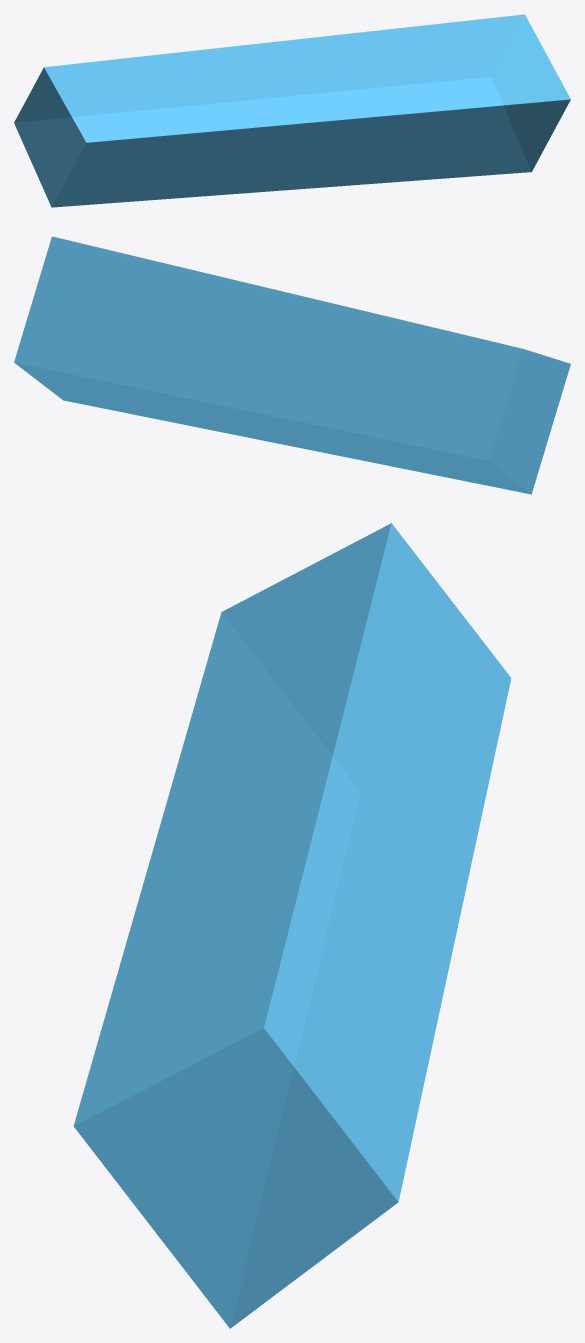
File: Event_421127236_HErechit_38.fbx
The picture shows the model from 3 angles, top to bottom: view 1: azimuth 30°, elevation 25°; view 2: azimuth 150°, elevation 25°; view 3: azimuth 270°, elevation 25°; orthographic projection. The views are drawn at different scales.
Parts seen in each view (by area): view 1: Model; view 2: Model; view 3: Model.
Part boxes in pixels (x1,y1,x2,y2): Model: (14,14,570,207); Model: (14,236,570,494); Model: (73,523,511,1328).
Bounding box in the file's own units: 1.31 × 0.5132 × 0.5518.
